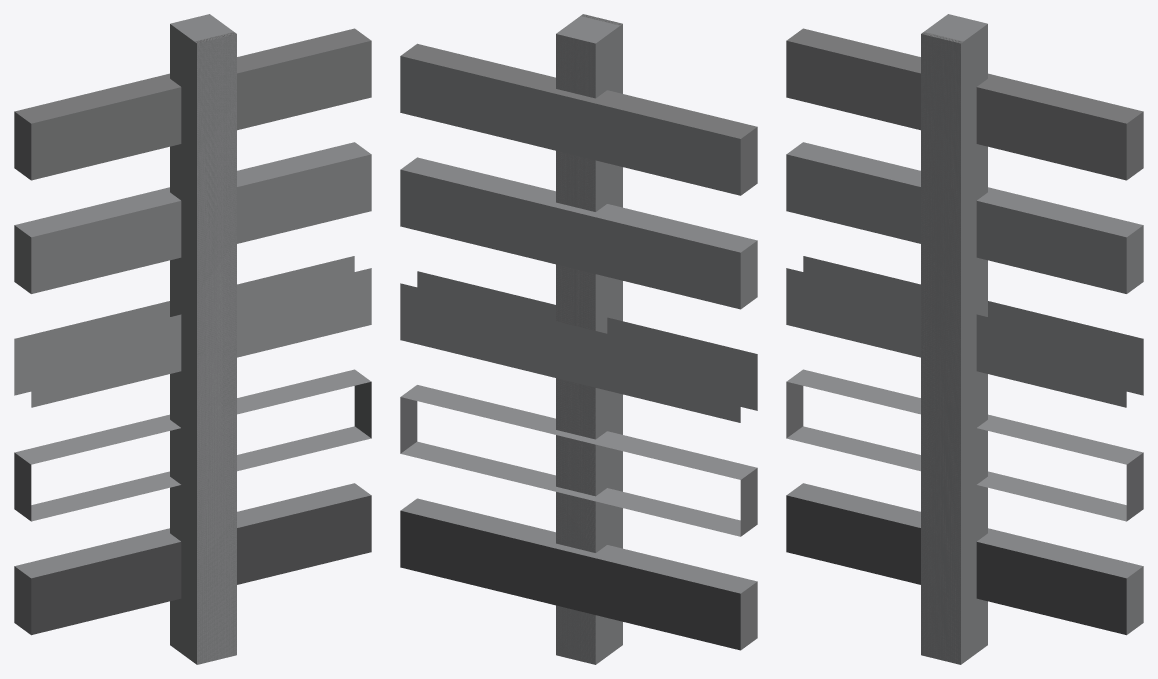
The picture shows the model from 3 angles, left to right: view 1: azimuth 30°, elevation 25°; view 2: azimuth 150°, elevation 25°; view 3: azimuth 330°, elevation 25°; orthographic projection.
Bounding box in the file's own units: 0.4324 × 0.7544 × 0.0713.
